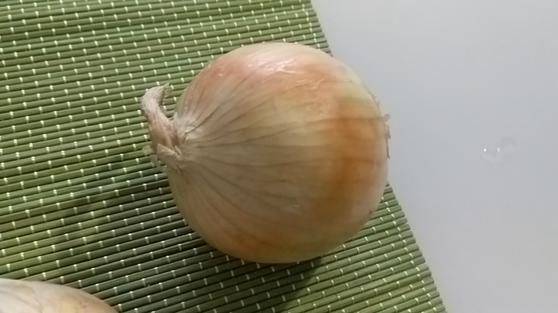onion: (139, 40, 392, 266)
